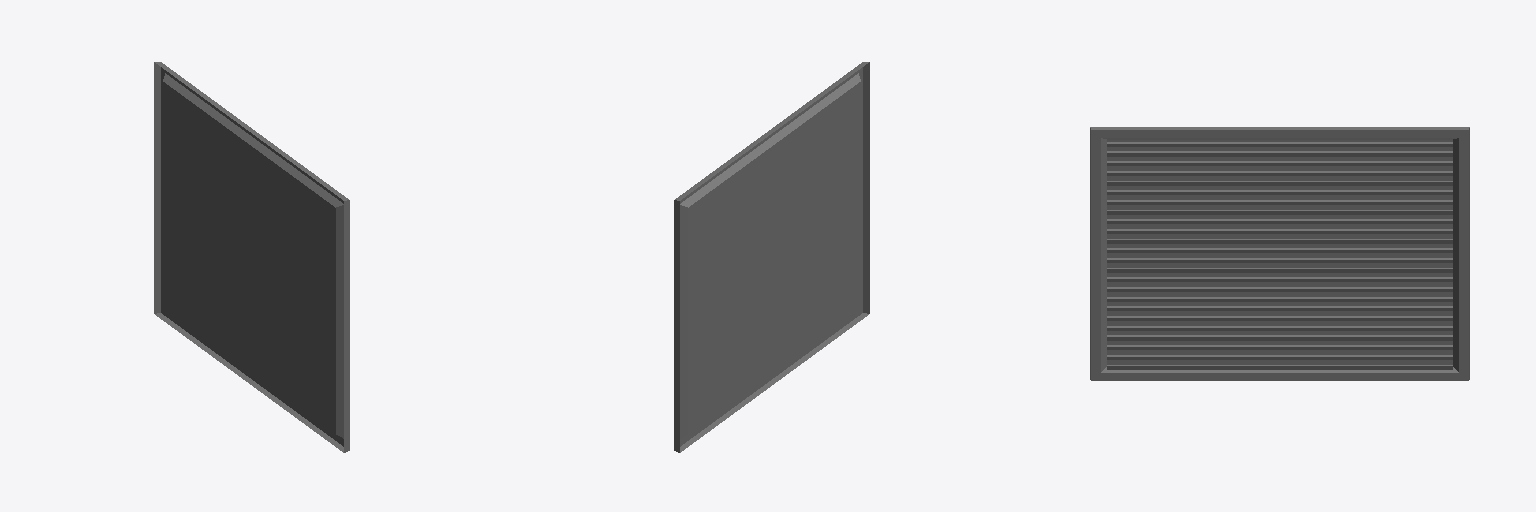
Rendered from prop_ventanaPersiana.obj.
3 renders of one model, left to right at view 1: azimuth 30°, elevation 25°; view 2: azimuth 150°, elevation 25°; view 3: azimuth 270°, elevation 25°, orthographic.
Visible parts, largest first — view 1: windowBorder windowGlass, windowBorder; view 2: windowBorder windowGlass, windowBorder; view 3: windowBorder windowGlass, windowBorder, windowBorder persiana_02, windowBorder persiana_021, windowBorder persiana_01, windowBorder persiana_03, windowBorder persiana_04, windowBorder persiana_05, windowBorder persiana_06, windowBorder persiana_07, windowBorder persiana_08, windowBorder persiana_09 (+14 smaller).
Part boxes in pixels (x1,y1,x2,y2): windowBorder windowGlass: (163,82,335,433); windowBorder: (154,62,349,452); windowBorder windowGlass: (688,82,860,433); windowBorder: (674,62,869,452); windowBorder windowGlass: (1107,140,1452,364); windowBorder: (1090,127,1469,380); windowBorder persiana_02: (1107,151,1452,156); windowBorder persiana_021: (1107,335,1452,340); windowBorder persiana_01: (1107,142,1452,146); windowBorder persiana_03: (1107,161,1452,165); windowBorder persiana_04: (1107,171,1452,175); windowBorder persiana_05: (1107,181,1452,185); windowBorder persiana_06: (1107,190,1452,194); windowBorder persiana_07: (1107,200,1452,204); windowBorder persiana_08: (1107,210,1452,214); windowBorder persiana_09: (1107,219,1452,223).
Size of the model in its own units: 0.0812 by 1.45 by 1.98.